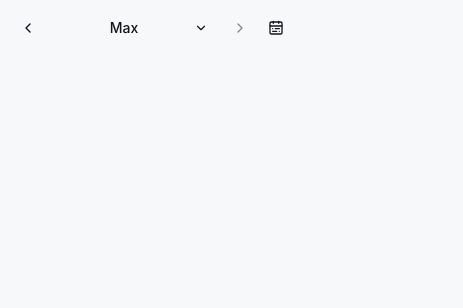
Test: PeriodNavigator › modalità 'Max' (allowAll) › selezionare una granularità dal menu in modalità 'Max' passa alla navigazione granulare
Click the button "Max": click(134, 28) [48, 12, 220, 44]
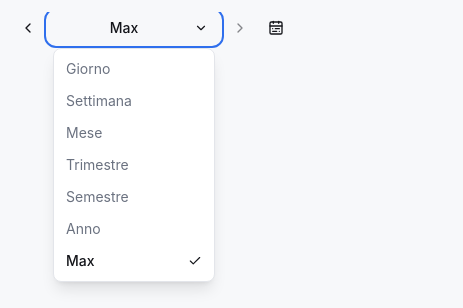
Click the menu item "Mese": click(134, 133) [58, 117, 210, 149]
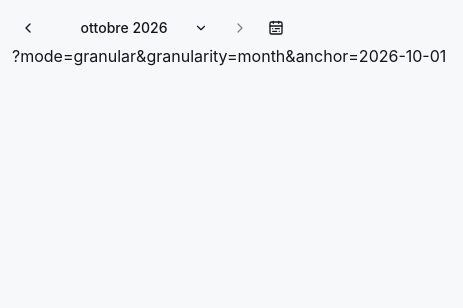
expect the text with test id "location" shows "mode=granular": met, box [12, 46, 446, 66]
